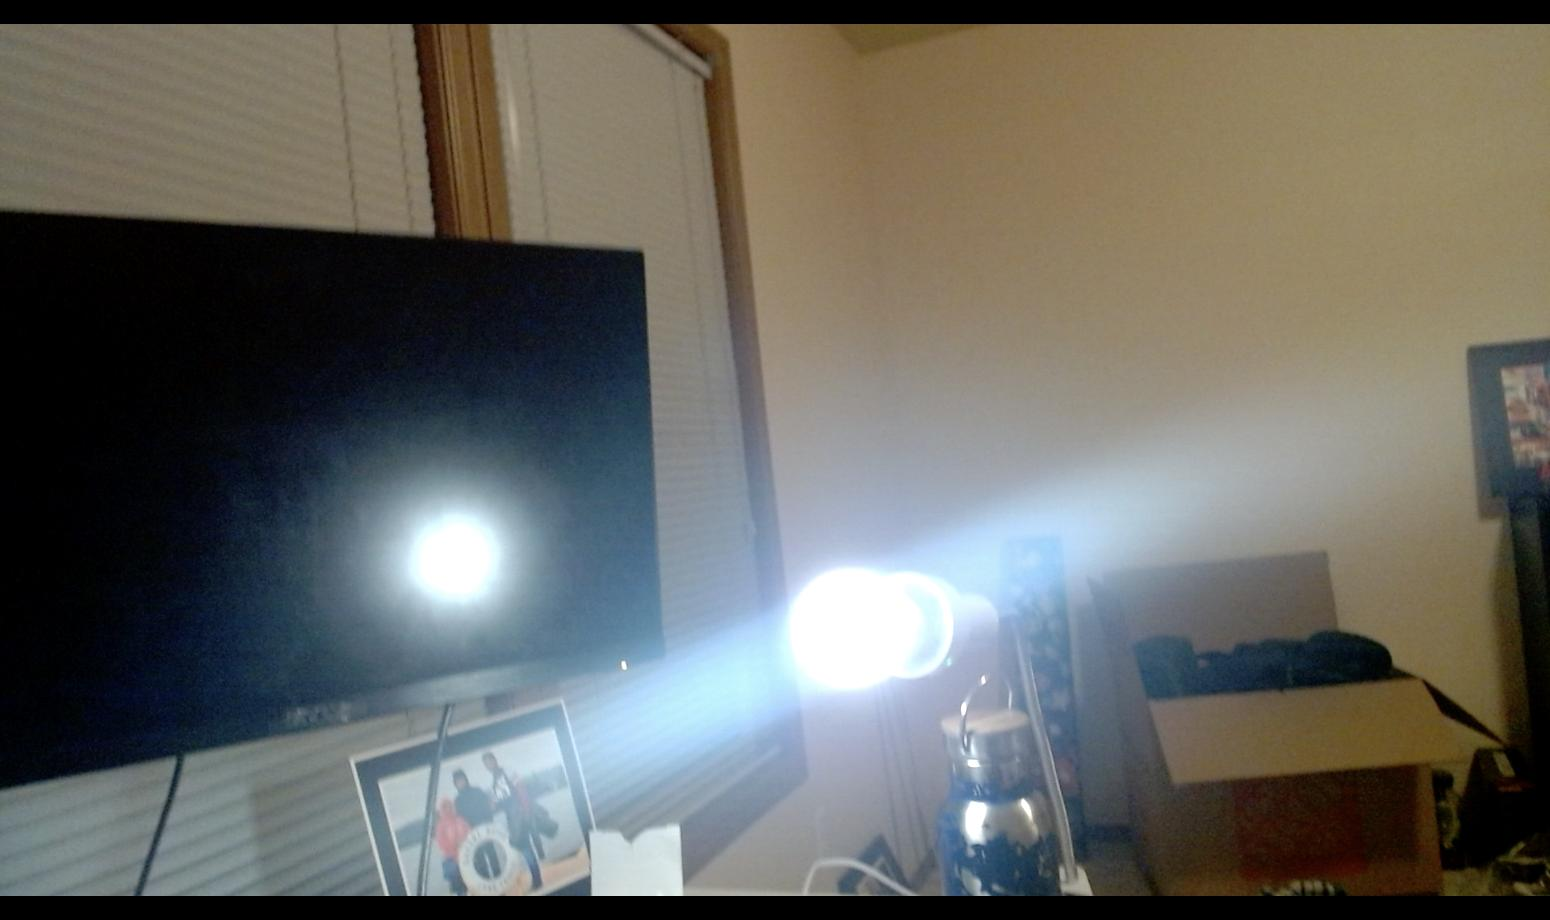TubeLight: (784, 566, 926, 691)
